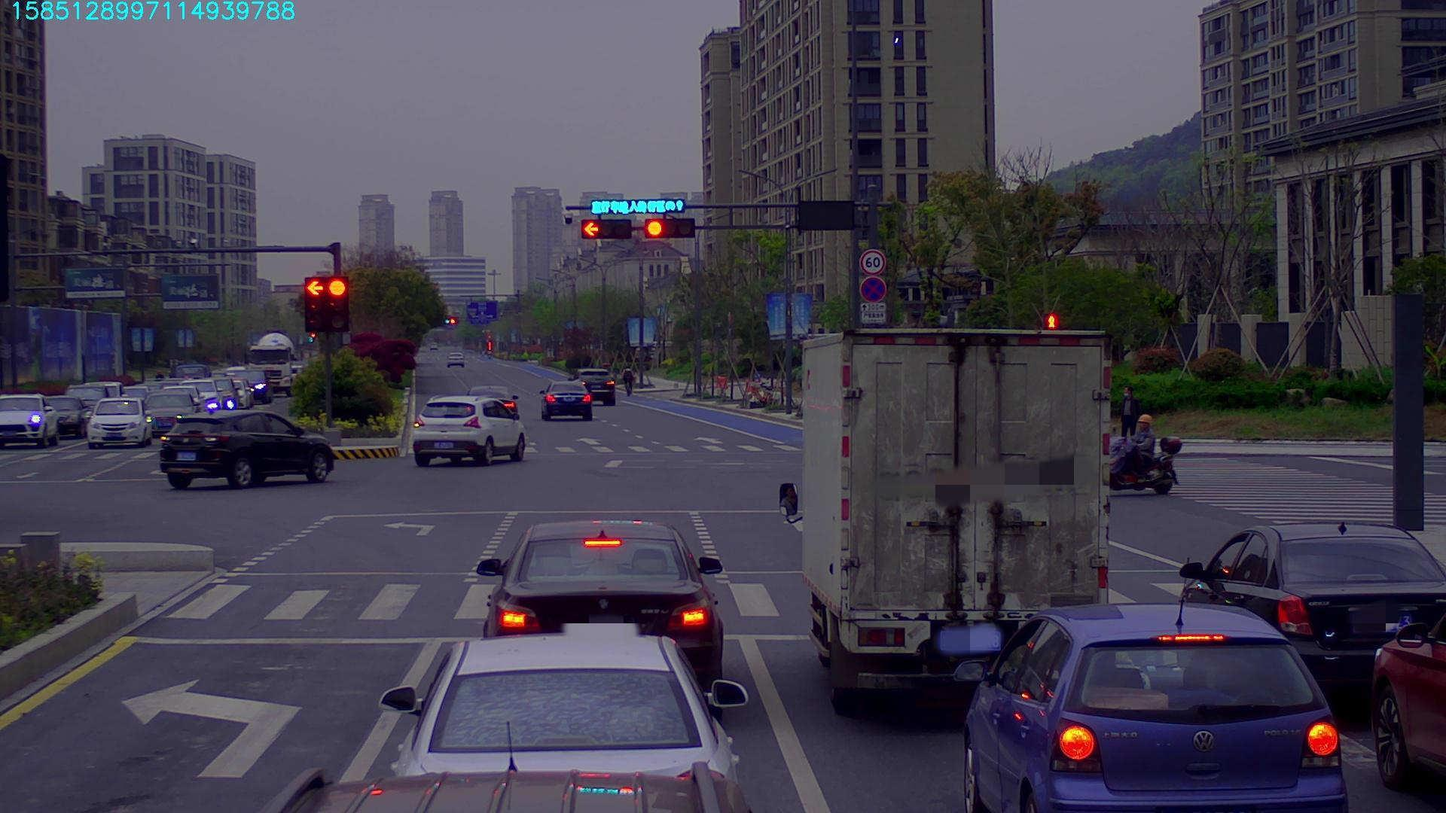red: (578, 220, 627, 239), (649, 219, 691, 238)
wait_on: (592, 196, 688, 211)
